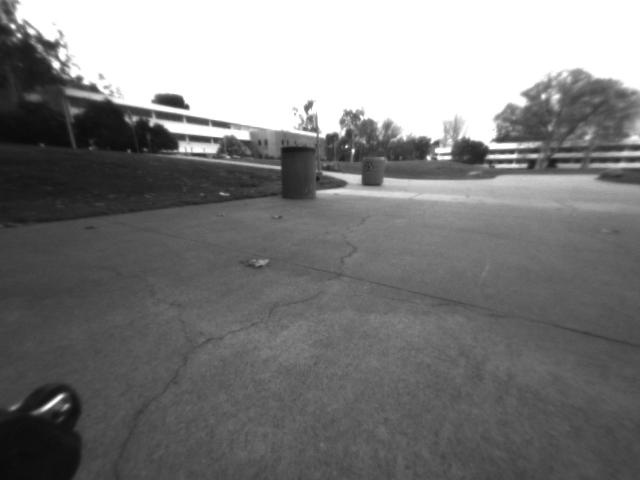trashcan: (277, 143, 321, 203), (360, 154, 385, 191)
